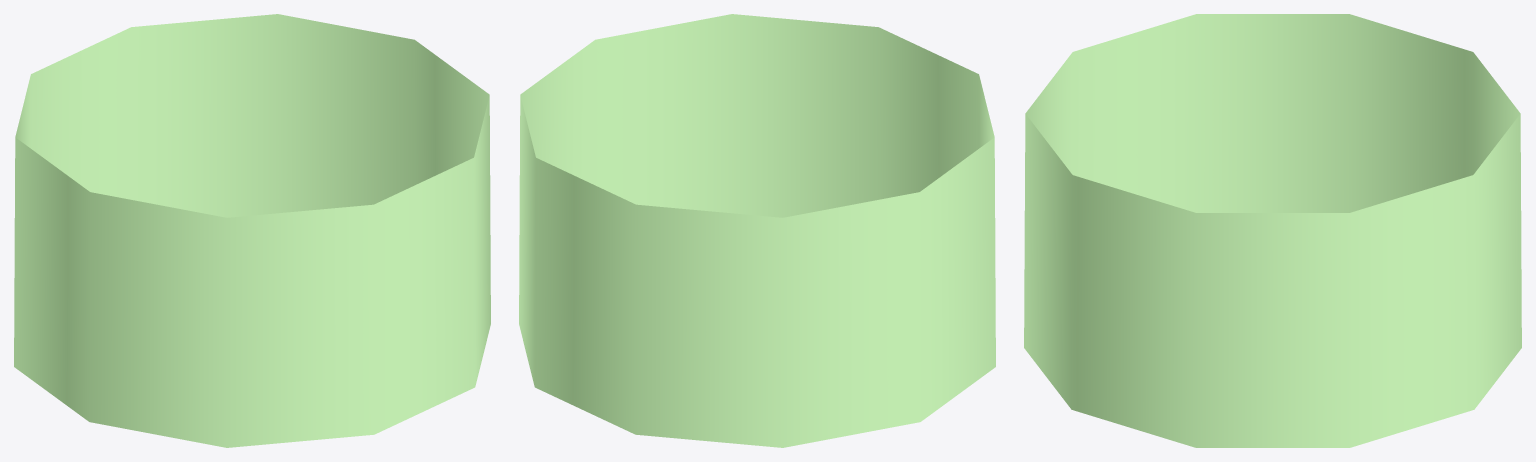
The model's file is worm_connector.glb.
3 views of the same model, side by side, from view 1: azimuth 30°, elevation 25°; view 2: azimuth 150°, elevation 25°; view 3: azimuth 270°, elevation 25° (orthographic). The views are drawn at different scales.
Parts seen in each view (by area): view 1: Connector_0; view 2: Connector_0; view 3: Connector_0.
Boxes of the visible parts, bbox=[...] form: Connector_0: bbox=[14, 14, 490, 447]; Connector_0: bbox=[519, 14, 995, 447]; Connector_0: bbox=[1024, 14, 1521, 447].
Bounding box in the file's own units: 0.7323 × 0.4 × 0.77.
